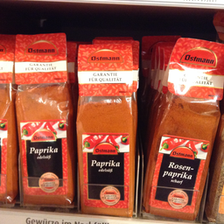spices: (145, 36, 224, 220), (77, 41, 137, 220), (15, 33, 75, 209)
